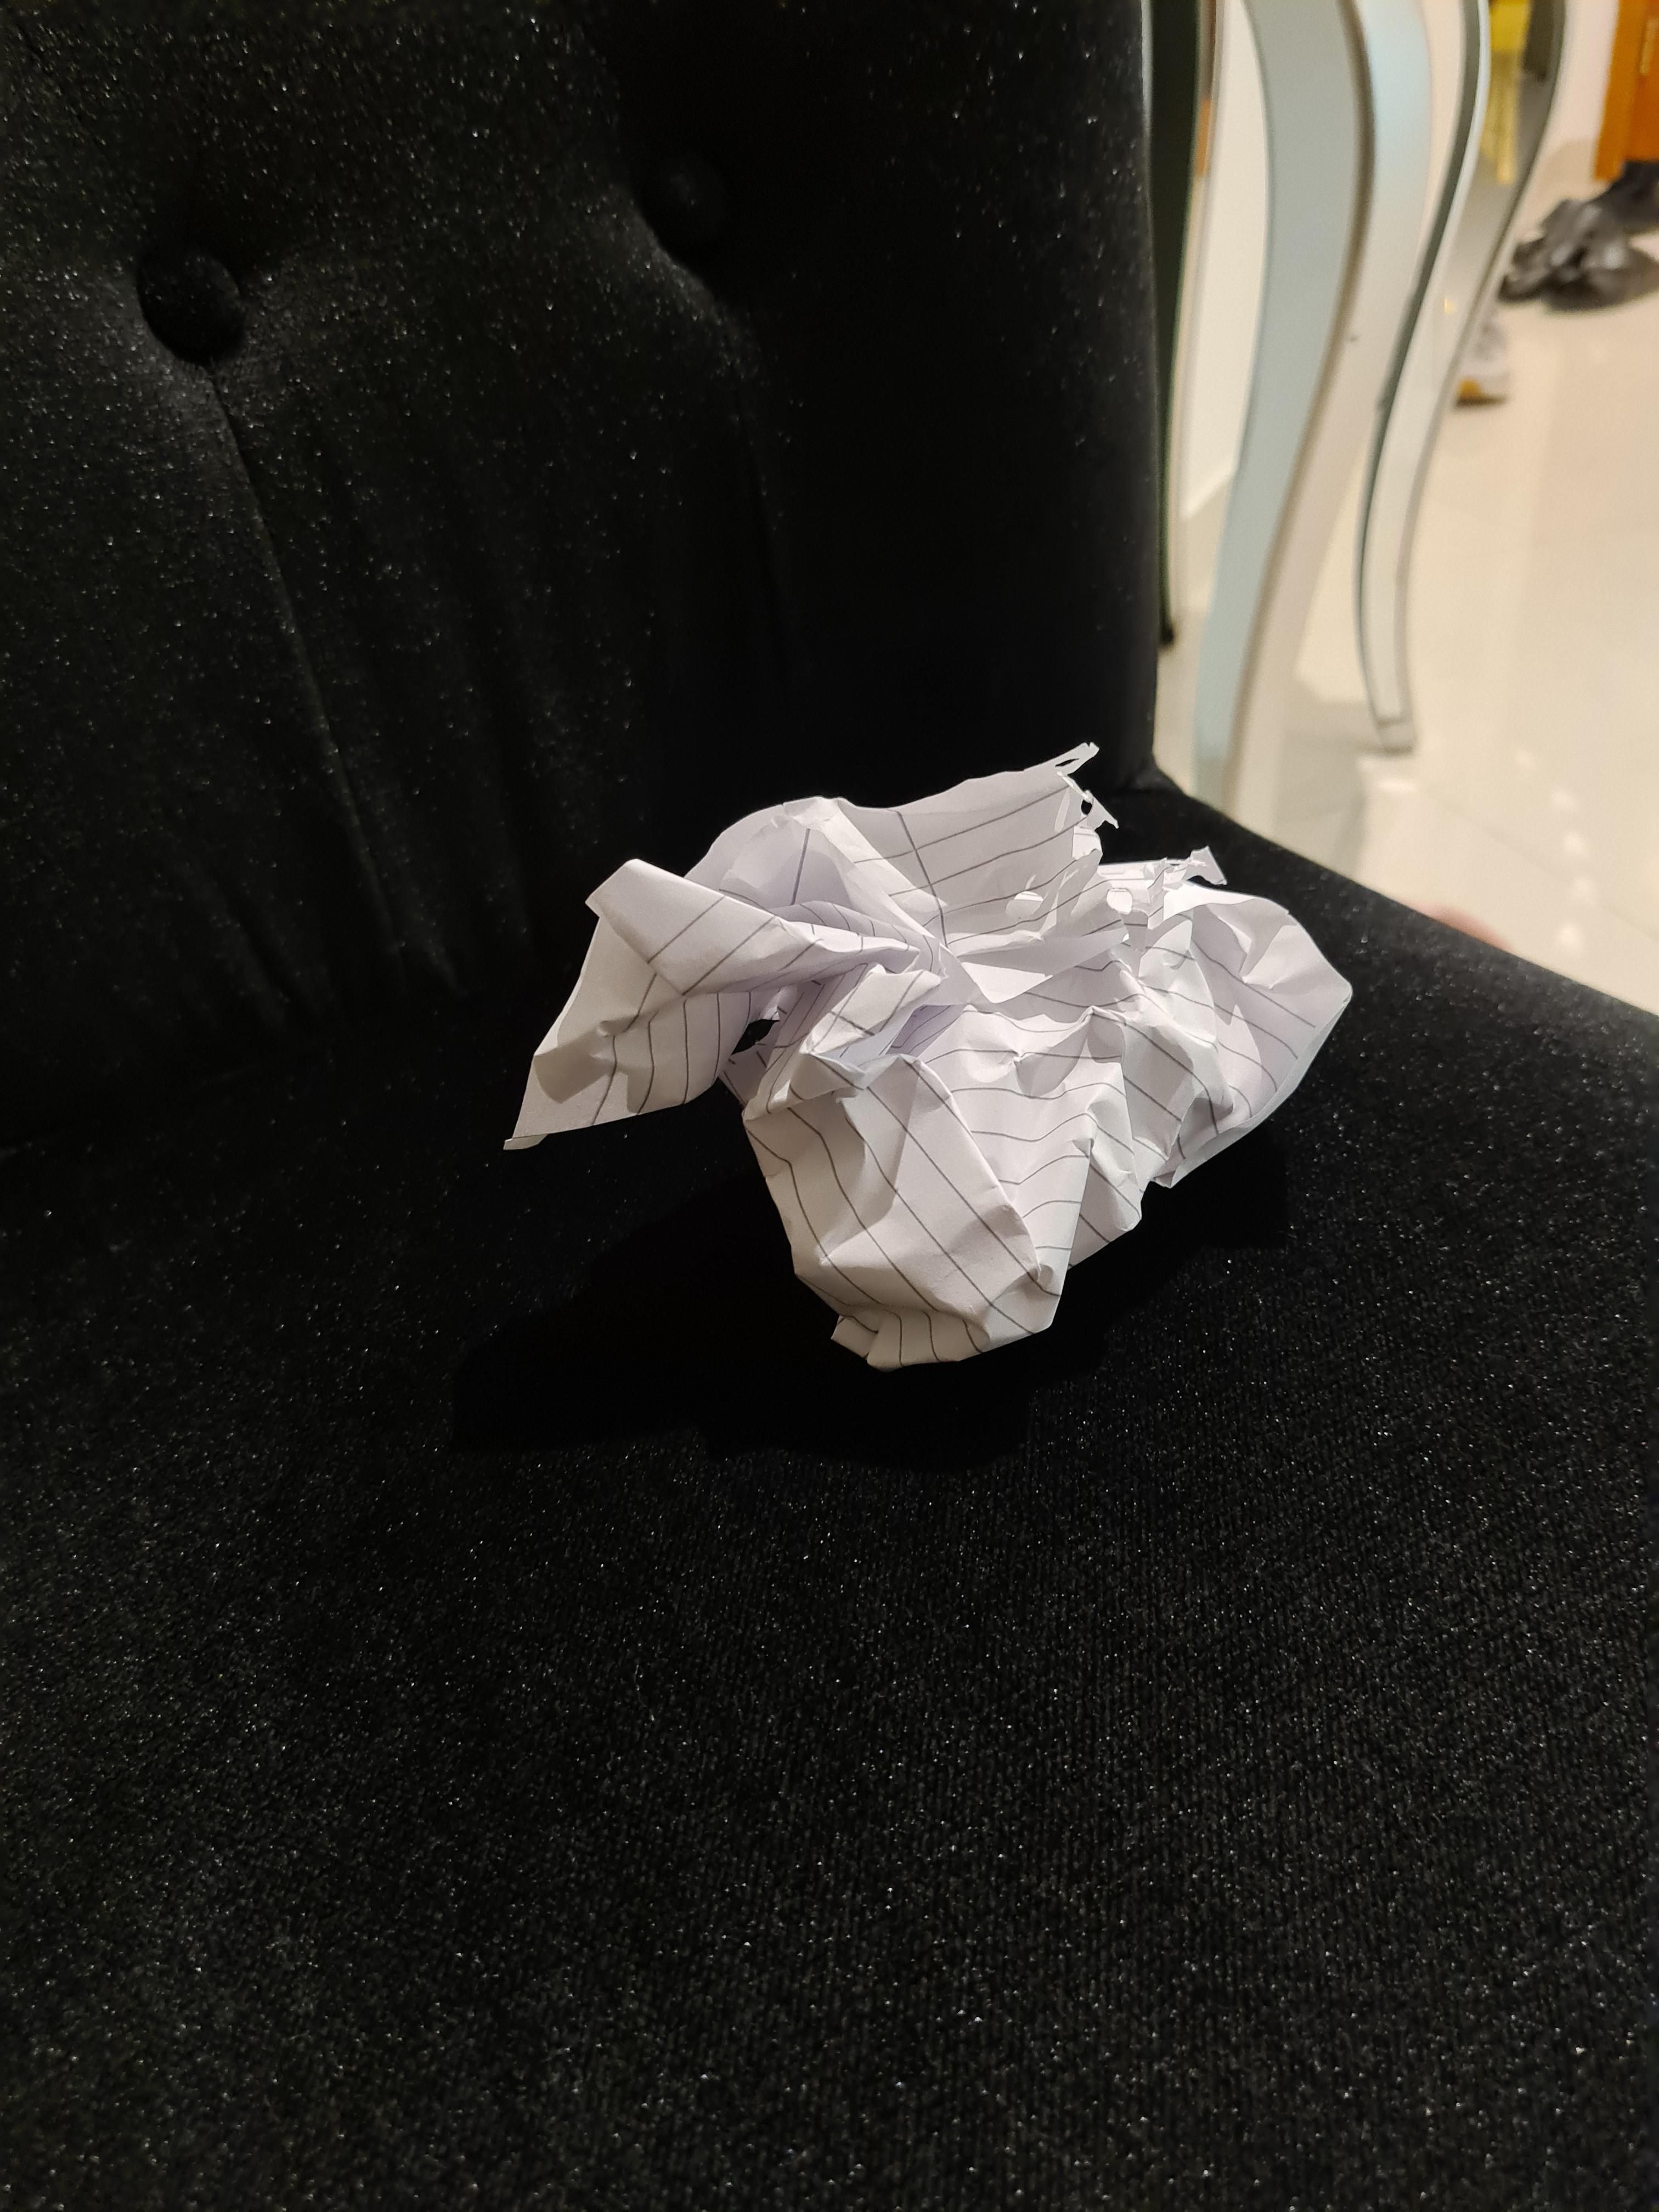Paper: (528, 764, 1335, 1384)
